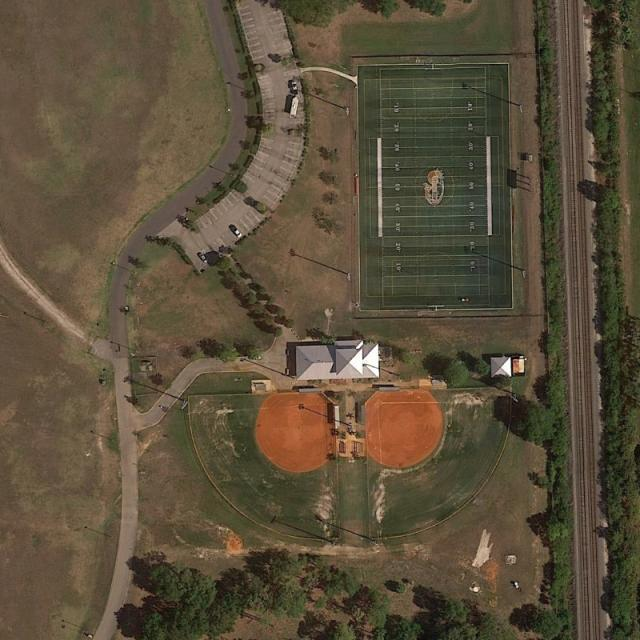vehicle: (230, 224, 242, 238), (290, 96, 298, 116), (290, 81, 298, 95), (198, 252, 208, 263)
